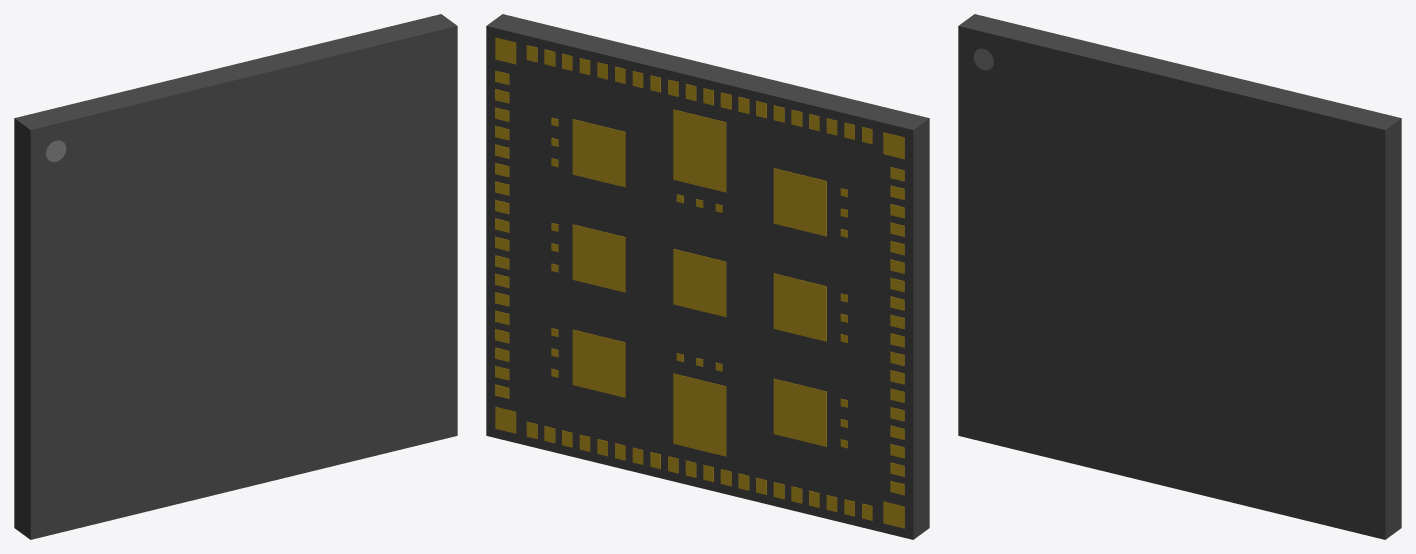
Rendered from Nordic_Semicon_NRF9151_LACA_R.3dmodel.glb.
3 renders of one model, left to right at view 1: azimuth 30°, elevation 25°; view 2: azimuth 150°, elevation 25°; view 3: azimuth 330°, elevation 25°, orthographic.
Visible parts, largest first — view 1: =>[0:1:1:1]; view 2: =>[0:1:1:1]; view 3: =>[0:1:1:1].
Part boxes in pixels (left/top/right/bottom): =>[0:1:1:1]: left=14, top=14, right=457, bottom=539; =>[0:1:1:1]: left=486, top=14, right=929, bottom=539; =>[0:1:1:1]: left=958, top=14, right=1401, bottom=539.
Bounding box in the file's own units: 12.1 × 11.1 × 0.81.
